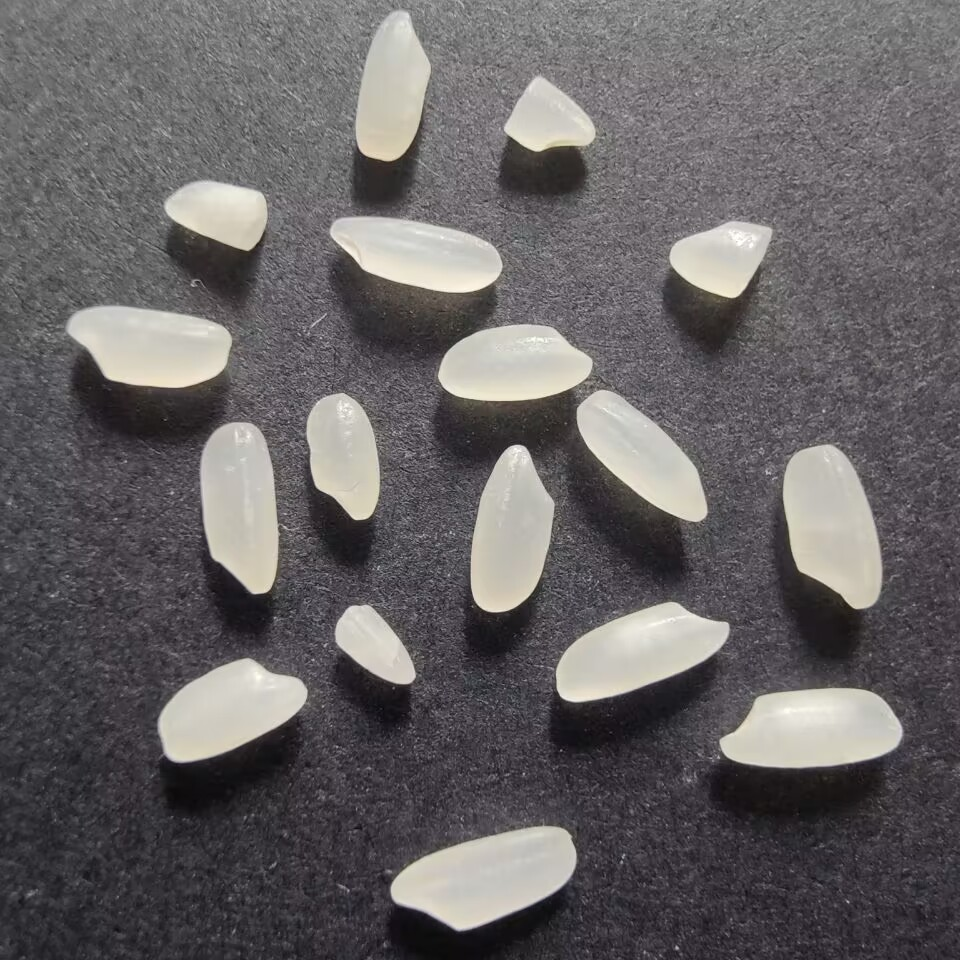broken: (329, 594, 420, 693), (497, 69, 596, 159), (158, 178, 277, 252), (669, 220, 772, 298)
rice: (388, 819, 582, 936), (553, 597, 735, 707), (573, 386, 713, 527), (776, 441, 889, 614), (154, 655, 311, 770), (463, 436, 560, 617), (711, 684, 906, 769), (55, 302, 235, 394), (194, 418, 283, 600), (320, 213, 507, 297), (433, 318, 600, 409), (347, 4, 432, 166), (299, 390, 382, 530)
